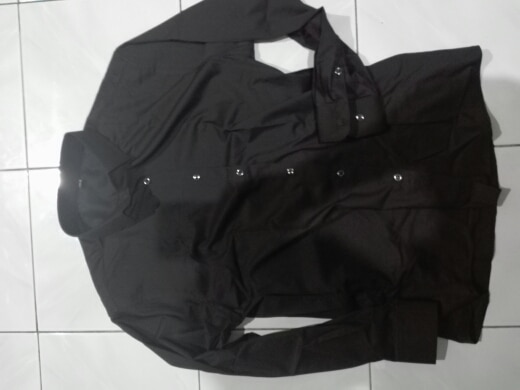shirts: (58, 10, 508, 374)
